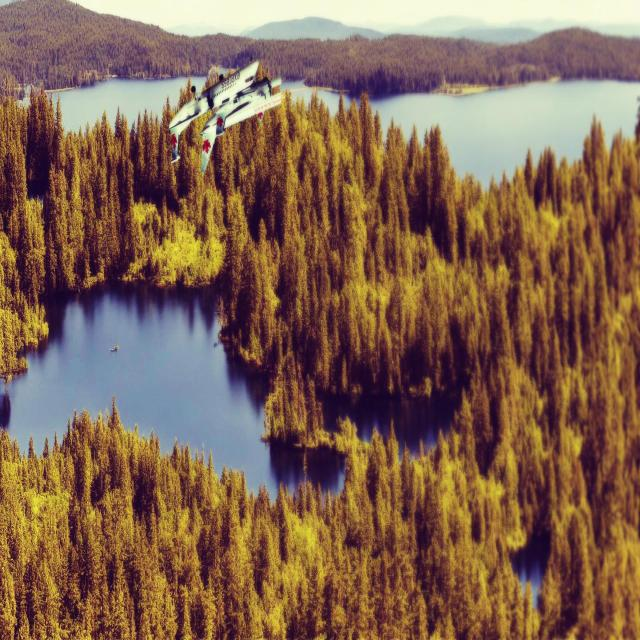airplane: (168, 57, 282, 174)
